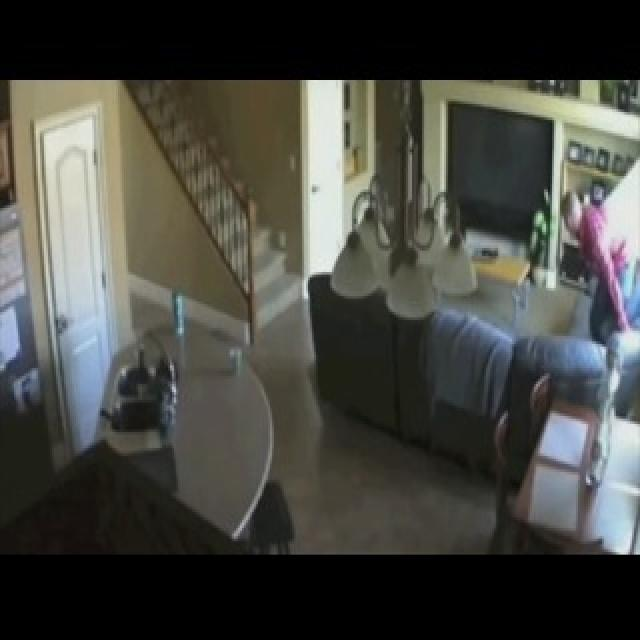thief: (529, 177, 626, 304)
